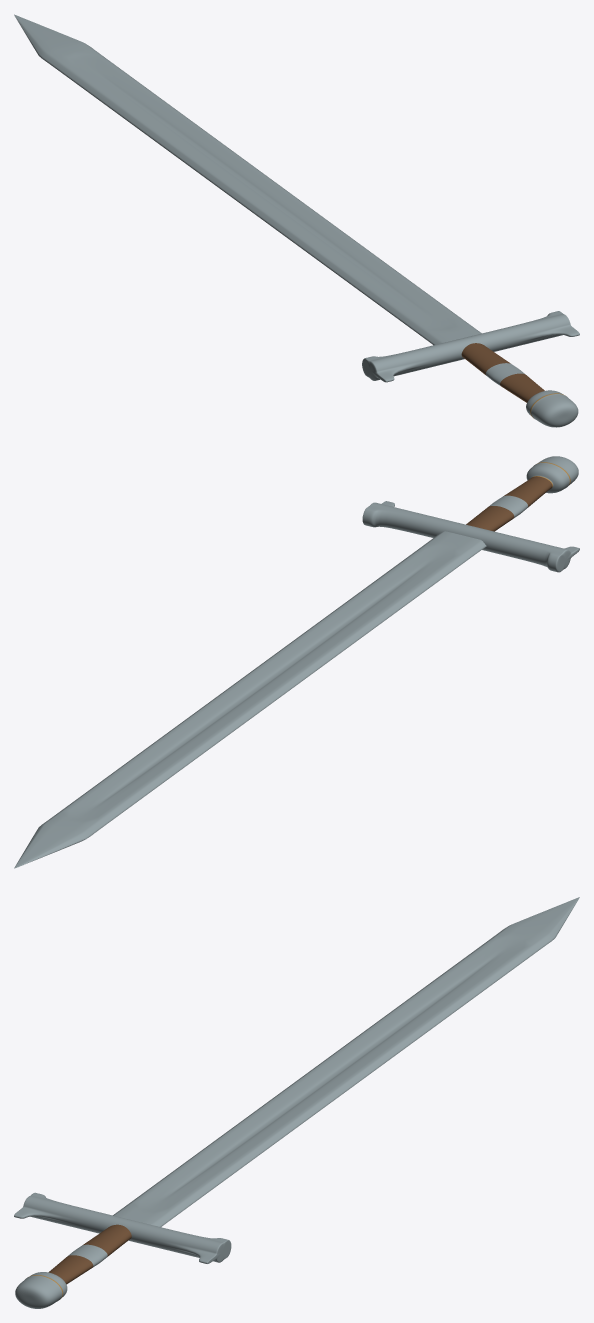
The model's file is broadsword.glb.
3 views of the same model, one above another, from view 1: azimuth 30°, elevation 25°; view 2: azimuth 150°, elevation 25°; view 3: azimuth 330°, elevation 25° (orthographic).
Parts seen in each view (by area): view 1: Cube, Cylinder.001, Cylinder; view 2: Cube, Cylinder.001, Cylinder; view 3: Cube, Cylinder.001, Cylinder.
Part boxes in pixels (x1,y1,x2,y2): Cube: [14, 14, 481, 345]; Cylinder.001: [362, 311, 579, 382]; Cylinder: [461, 343, 578, 427]; Cube: [14, 531, 486, 868]; Cylinder.001: [362, 501, 579, 572]; Cylinder: [466, 456, 578, 531]; Cube: [113, 897, 579, 1226]; Cylinder.001: [14, 1192, 231, 1263]; Cylinder: [15, 1224, 131, 1308].
Size of the model in its own units: 0.3949 by 0.0501 by 1.93.
